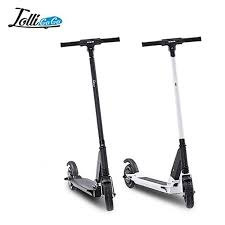kick_board: (124, 35, 202, 208), (61, 36, 120, 211)
kick_handler: (142, 36, 201, 53), (61, 38, 119, 53)
kick_neck: (87, 58, 107, 158), (171, 55, 185, 159)
kick_wheel: (181, 178, 194, 208), (102, 181, 114, 211), (124, 162, 134, 188), (66, 162, 75, 188)
